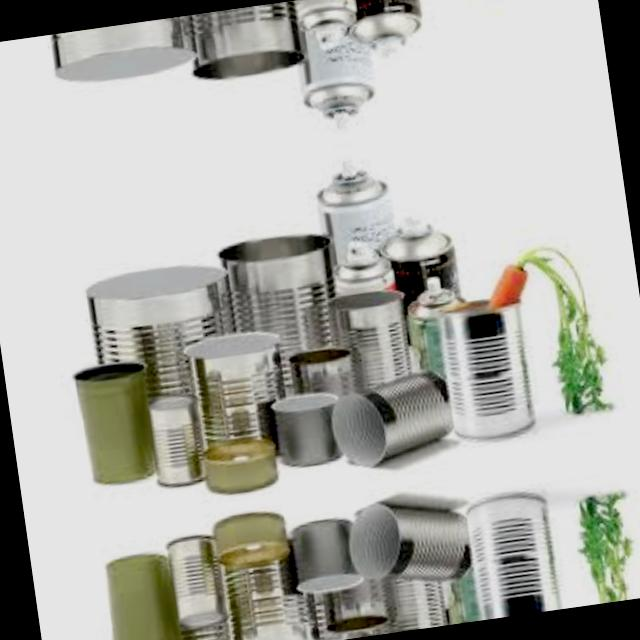Metal: (82, 256, 244, 406), (216, 228, 351, 398), (180, 324, 294, 466), (436, 291, 540, 443), (326, 368, 457, 472), (464, 488, 566, 620), (343, 490, 474, 592), (72, 358, 162, 488), (211, 536, 322, 640), (49, 15, 199, 89), (185, 0, 306, 83), (327, 284, 416, 396), (294, 18, 382, 124), (315, 163, 403, 268), (98, 548, 187, 640), (376, 217, 462, 310), (402, 283, 474, 380), (144, 389, 212, 491), (164, 530, 232, 632), (267, 587, 386, 640), (271, 388, 345, 471), (288, 514, 362, 596), (366, 568, 449, 636), (212, 506, 292, 574), (202, 431, 282, 498), (343, 0, 425, 55), (321, 574, 389, 636), (441, 564, 508, 625), (288, 344, 356, 404), (133, 615, 280, 640), (332, 249, 398, 298), (295, 0, 362, 38), (285, 0, 360, 3)
